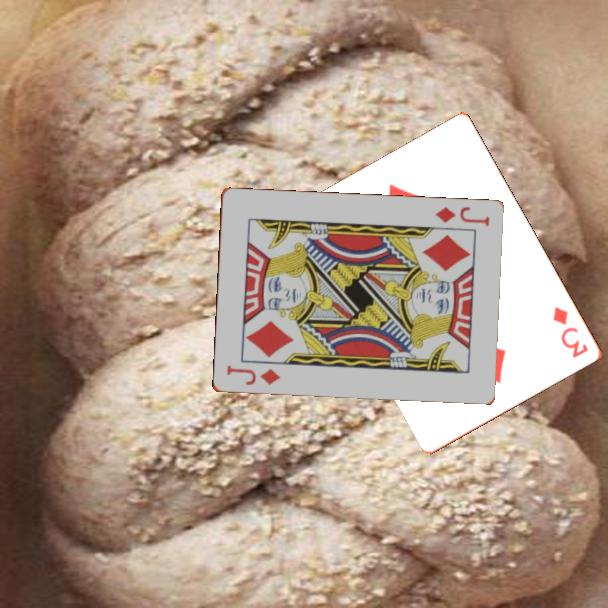d03: (550, 303, 592, 361)
d11: (431, 203, 492, 230), (223, 362, 283, 388)
